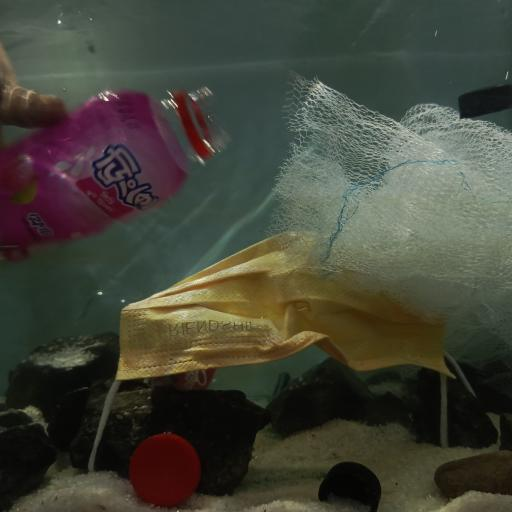bottle_cap: (128, 432, 202, 505), (318, 461, 383, 508), (458, 83, 512, 120)
mask: (113, 232, 464, 401)
net: (265, 65, 512, 374)
plastic_bottle: (3, 83, 236, 286), (82, 281, 300, 400)
